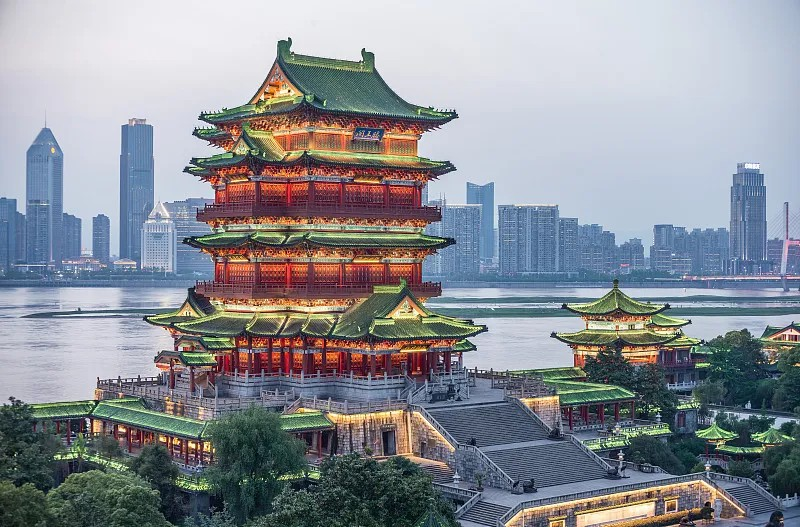Teng: (143, 37, 489, 376)
